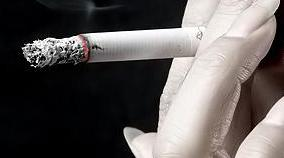smoke: (18, 24, 259, 70)
